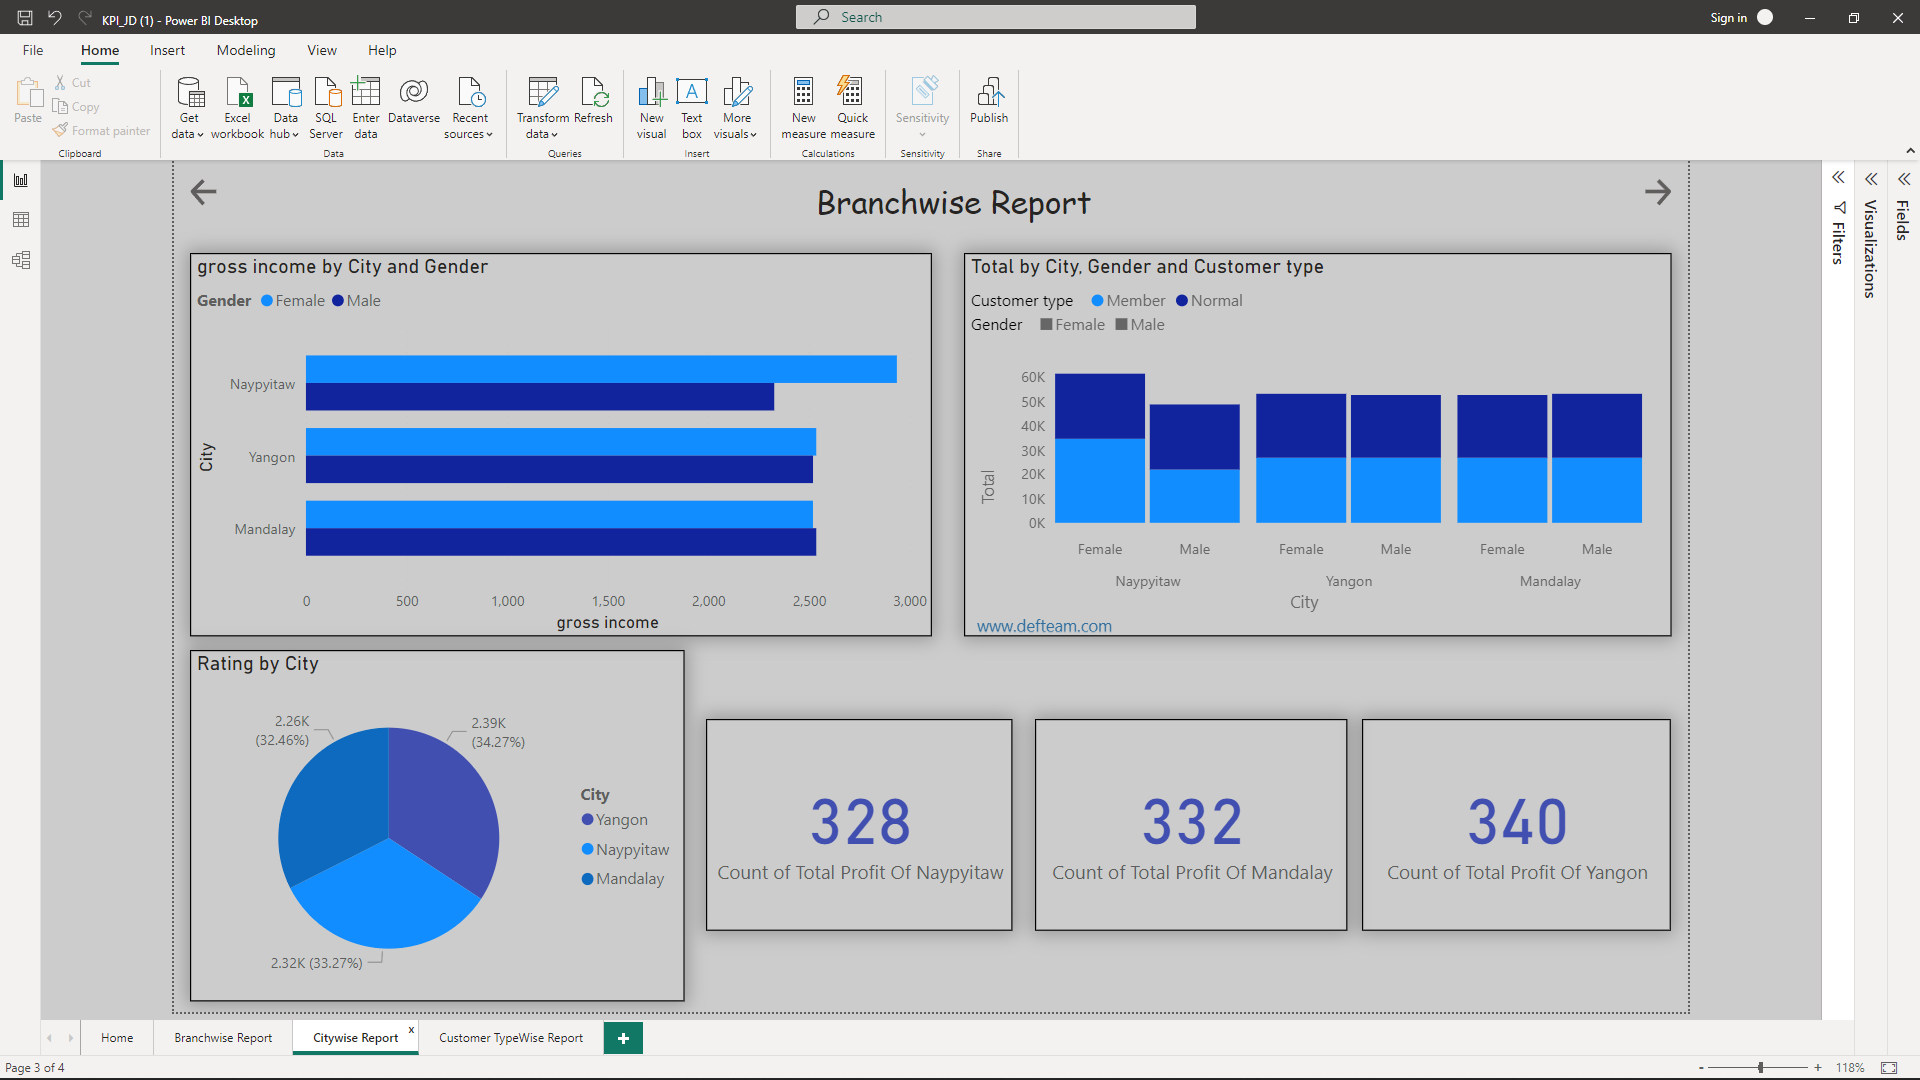

What the dashboard file says about the page in this screenshot:
{"tool":"powerbi","page":{"name":"Citywise Report","canvas":[1280,720],"ordinal":2},"visuals":[{"type":"pieChart","fields":{"Category":["supersales - powr bi.City"],"Y":["Sum(supersales - powr bi.Rating)"]},"box":[13.4,414.4,418.1,297],"z":0},{"type":"clusteredBarChart","fields":{"Category":["supersales - powr bi.City"],"Y":["Sum(supersales - powr bi.gross income)"],"Series":["supersales - powr bi.Gender"]},"box":[13.4,78.2,627.1,323.9],"z":1000},{"type":"card","fields":{"Values":["CountNonNull(supersales - powr bi.Total Profit Of Naypyitaw)"]},"box":[449.3,472.8,259.5,178.5],"z":2000},{"type":"card","fields":{"Values":["CountNonNull(supersales - powr bi.Total Profit Of Mandalay)"]},"box":[727.9,472.8,263.8,179.4],"z":3000},{"type":"card","fields":{"Values":["CountNonNull(supersales - powr bi.Total Profit Of Yangon)"]},"box":[1004,472.8,261.2,178.5],"z":4000},{"type":"actionButton","box":[1238.3,12.2,41.6,30.6],"z":5000},{"type":"actionButton","box":[9.8,12.2,31.8,30.6],"z":6000},{"type":"ClusteredStackedBarChart39ECD6FE50G","fields":{"category1":["supersales - powr bi.City"],"measure":["Sum(supersales - powr bi.Total)"],"legend":["supersales - powr bi.Customer type"],"category2":["supersales - powr bi.Gender"]},"box":[667.4,78.2,597.8,323.9],"z":7000},{"type":"textbox","box":[229.8,12.2,858.1,50.1],"z":9000}]}

Visuals, with their boxes on the page's 1280x720 design canvas (x1, y1, x2, y2). These are canvas units, not pixel positions in the 1920x1080 screenshot, which may show the page scaled, cropped or inside an application window:
pieChart - supersales - powr bi.City x Sum(supersales - powr bi.Rating): [13, 414, 432, 711]
clusteredBarChart - supersales - powr bi.City x Sum(supersales - powr bi.gross income): [13, 78, 640, 402]
card - CountNonNull(supersales - powr bi.Total Profit Of Naypyitaw): [449, 473, 709, 651]
card - CountNonNull(supersales - powr bi.Total Profit Of Mandalay): [728, 473, 992, 652]
card - CountNonNull(supersales - powr bi.Total Profit Of Yangon): [1004, 473, 1265, 651]
actionButton: [1238, 12, 1280, 43]
actionButton: [10, 12, 42, 43]
ClusteredStackedBarChart39ECD6FE50G - supersales - powr bi.City x Sum(supersales - powr bi.Total): [667, 78, 1265, 402]
textbox: [230, 12, 1088, 62]
